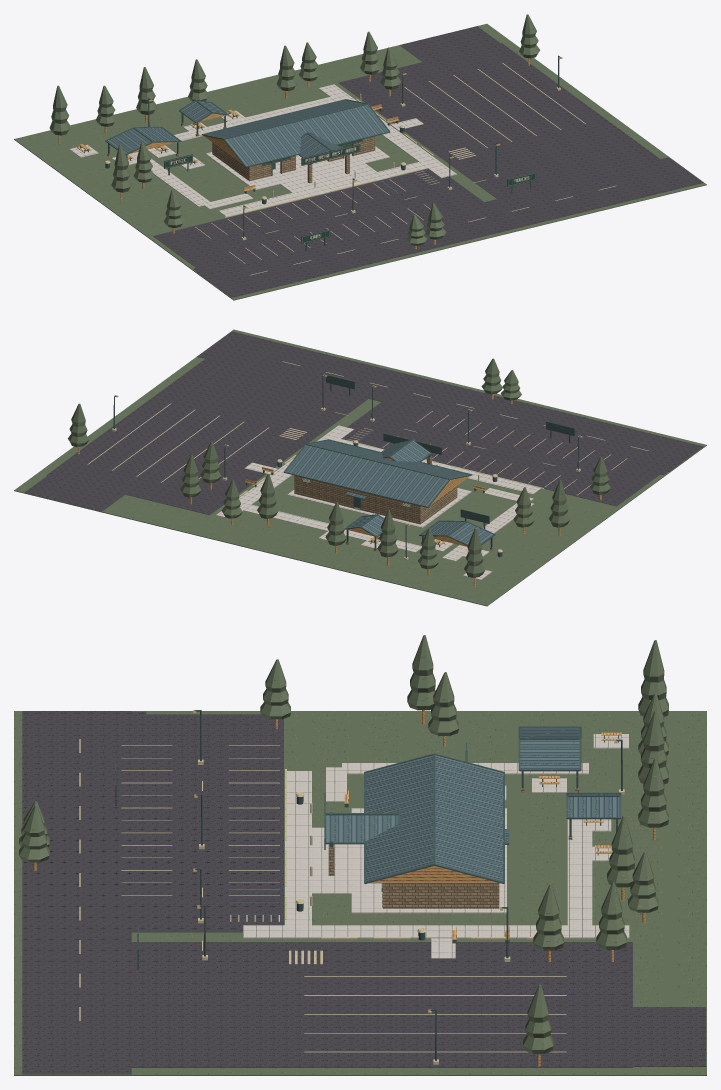
The model's file is highway-rest-area.glb.
3 views of the same model, one above another, from view 1: azimuth 30°, elevation 25°; view 2: azimuth 150°, elevation 25°; view 3: azimuth 270°, elevation 25° (orthographic). The views are drawn at different scales.
Parts seen in each view (by area): view 1: parking_and_paths, pavilion, restroom_west, tree_04, tree_02, tree_06, tree_08, tree_12, tree_10, tree_11, tree_05, tree_07 (+5 smaller); view 2: parking_and_paths, pavilion, restroom_west, restroom_east, tree_04, tree_06, tree_02, tree_08, tree_07, tree_12, tree_10, tree_11 (+5 smaller); view 3: parking_and_paths, pavilion, restroom_east, tree_02, tree_12, tree_07, tree_08, tree_10, tree_11, tree_03, tree_04, tree_09 (+3 smaller).
Boxes of the visible parts, x1=… form: parking_and_paths: x1=14, y1=23, x2=706, y2=300; pavilion: x1=105, y1=99, x2=390, y2=189; restroom_west: x1=212, y1=142, x2=295, y2=181; tree_04: x1=49, y1=85, x2=70, y2=144; tree_02: x1=111, y1=144, x2=132, y2=200; tree_06: x1=136, y1=67, x2=157, y2=123; tree_08: x1=276, y1=45, x2=297, y2=98; tree_12: x1=519, y1=14, x2=540, y2=65; tree_10: x1=360, y1=31, x2=381, y2=81; tree_11: x1=380, y1=47, x2=401, y2=96; tree_05: x1=96, y1=85, x2=116, y2=133; tree_07: x1=188, y1=59, x2=209, y2=101; parking_and_paths: x1=14, y1=329, x2=706, y2=606; pavilion: x1=283, y1=433, x2=495, y2=551; restroom_west: x1=374, y1=486, x2=457, y2=524; restroom_east: x1=294, y1=475, x2=340, y2=504; tree_04: x1=464, y1=528, x2=484, y2=586; tree_06: x1=377, y1=510, x2=398, y2=565; tree_02: x1=548, y1=480, x2=569, y2=535; tree_08: x1=257, y1=474, x2=278, y2=526; tree_07: x1=325, y1=502, x2=346, y2=553; tree_12: x1=68, y1=403, x2=88, y2=454; tree_10: x1=180, y1=455, x2=201, y2=504; tree_11: x1=200, y1=441, x2=221, y2=489; parking_and_paths: x1=14, y1=711, x2=706, y2=1075; pavilion: x1=324, y1=726, x2=621, y2=913; restroom_east: x1=381, y1=883, x2=499, y2=908; tree_02: x1=407, y1=635, x2=435, y2=724; tree_12: x1=523, y1=984, x2=553, y2=1066; tree_07: x1=638, y1=758, x2=668, y2=840; tree_08: x1=607, y1=815, x2=635, y2=900; tree_10: x1=596, y1=882, x2=626, y2=961; tree_11: x1=533, y1=884, x2=563, y2=961; tree_03: x1=428, y1=672, x2=458, y2=746; tree_04: x1=638, y1=640, x2=668, y2=716; tree_09: x1=628, y1=851, x2=658, y2=922.
Size of what is drawn, in the model's own units: 82 by 9.78 by 66.
11 materials, 11 textured.
